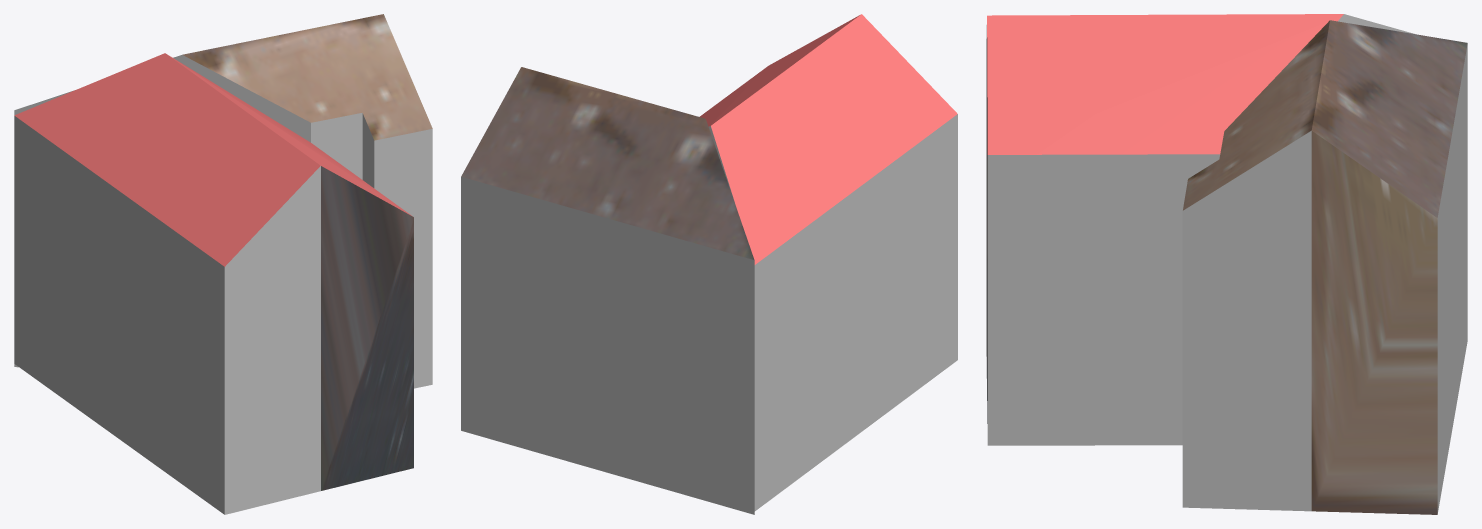
Rendered from DEBW_0010007Txif.gltf.
The picture shows the model from 3 angles, left to right: view 1: azimuth 30°, elevation 25°; view 2: azimuth 150°, elevation 25°; view 3: azimuth 270°, elevation 25°; orthographic projection. The views are drawn at different scales.
Parts seen in each view (by area): view 1: Z_UP; view 2: Z_UP; view 3: Z_UP.
Part boxes in pixels (x1=…): Z_UP: x1=14, y1=14, x2=432, y2=514; Z_UP: x1=461, y1=14, x2=957, y2=514; Z_UP: x1=986, y1=14, x2=1467, y2=514.
Size of the model in its own units: 18.08 by 18.42 by 21.07.
Materials: 3 (1 with a texture image).
